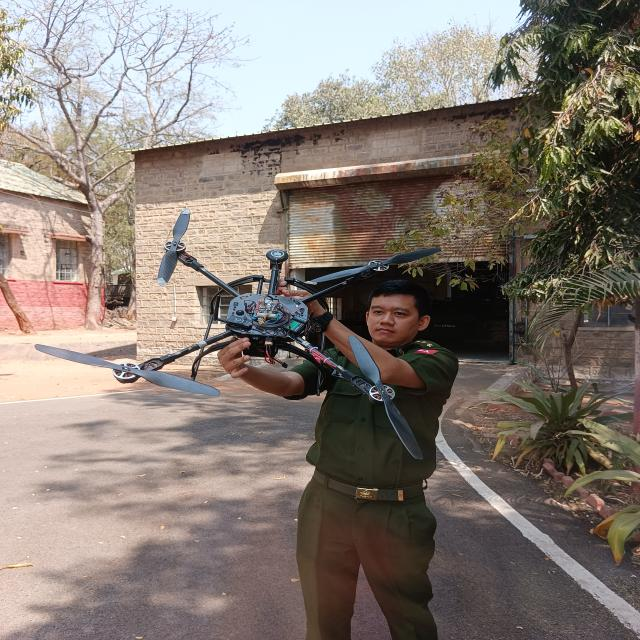drone: (32, 199, 482, 472)
